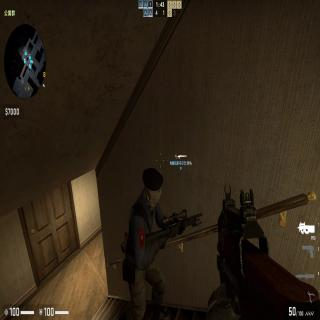CT-Body: (124, 162, 171, 316)
T-Head: (142, 167, 164, 206)
